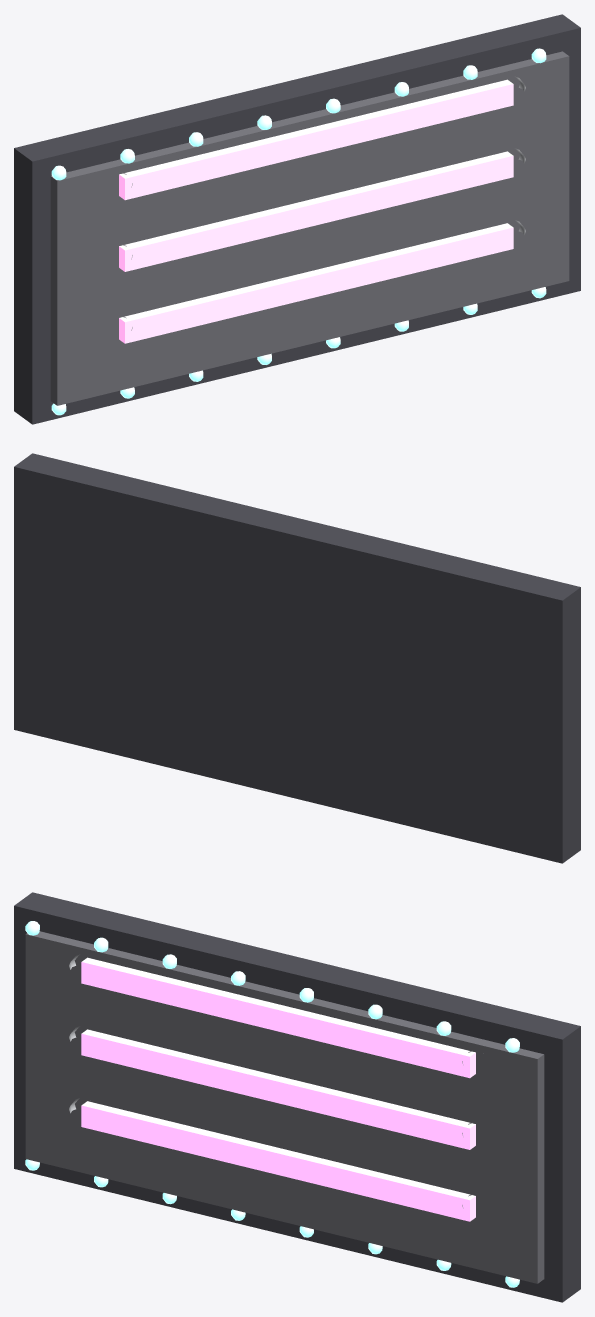
3 renders of one model, top to bottom at view 1: azimuth 30°, elevation 25°; view 2: azimuth 150°, elevation 25°; view 3: azimuth 330°, elevation 25°, orthographic.
Visible parts, largest first — view 1: neon-sign-frame-bar; view 2: neon-sign-frame-bar; view 3: neon-sign-frame-bar.
Part boxes in pixels (bbox=[...]): neon-sign-frame-bar: bbox=[14, 14, 580, 424]; neon-sign-frame-bar: bbox=[14, 453, 580, 863]; neon-sign-frame-bar: bbox=[14, 892, 580, 1302].
Bounding box in the file's own units: 2.4 × 1.1 × 0.2595.
